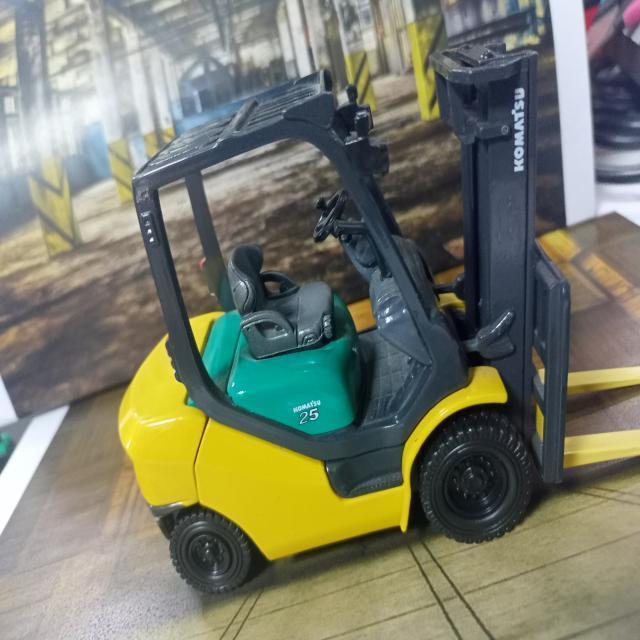forklift: (97, 63, 567, 582)
